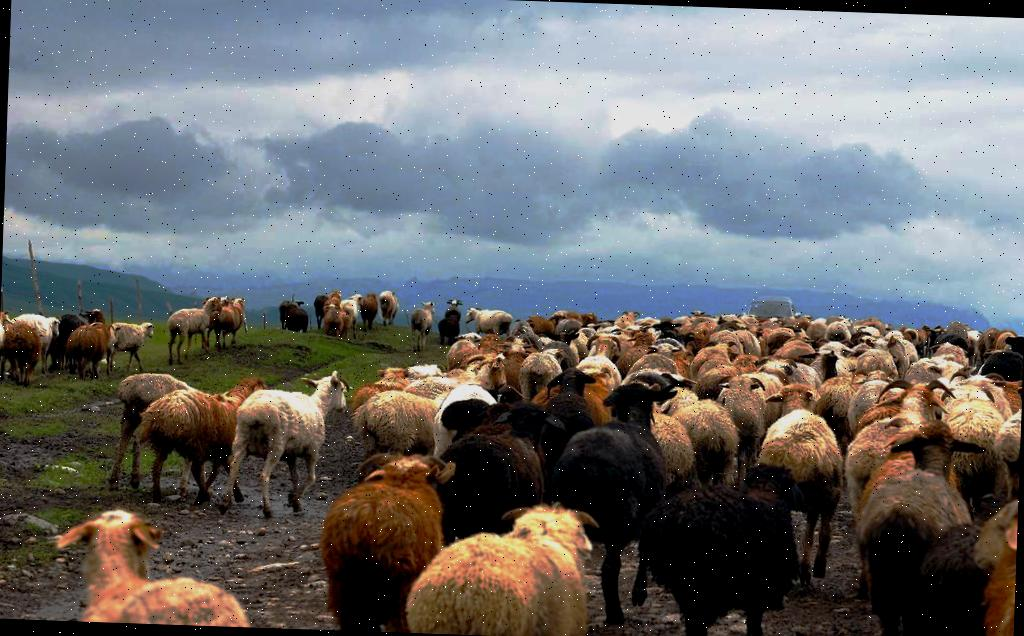Sheep: (550, 380, 680, 630), (634, 453, 800, 636), (316, 440, 460, 634), (401, 502, 604, 636), (218, 366, 352, 518), (442, 388, 560, 550), (752, 379, 846, 577), (673, 397, 736, 485), (715, 370, 766, 470), (518, 343, 566, 400), (462, 303, 509, 339)
